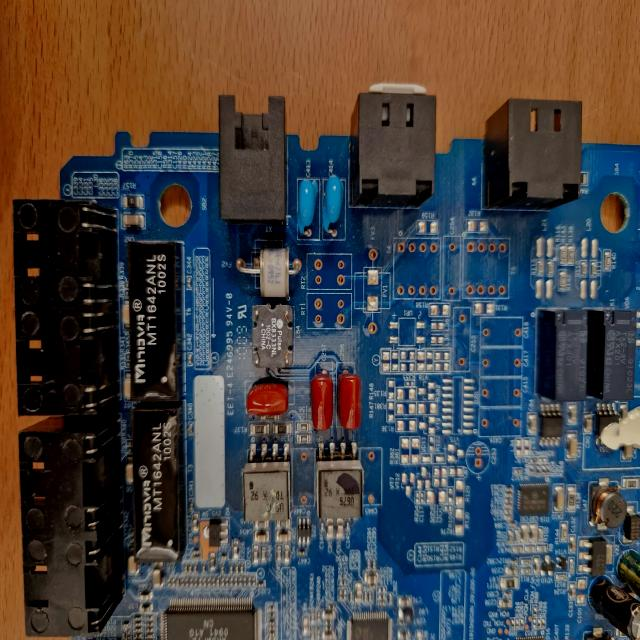C: (593, 580, 639, 640), (618, 548, 640, 594)
E: (321, 178, 343, 234), (296, 179, 317, 237)
F: (19, 416, 120, 534), (15, 307, 119, 414), (12, 201, 116, 307), (486, 100, 582, 212), (22, 534, 122, 631), (351, 95, 435, 206), (219, 96, 285, 222)
